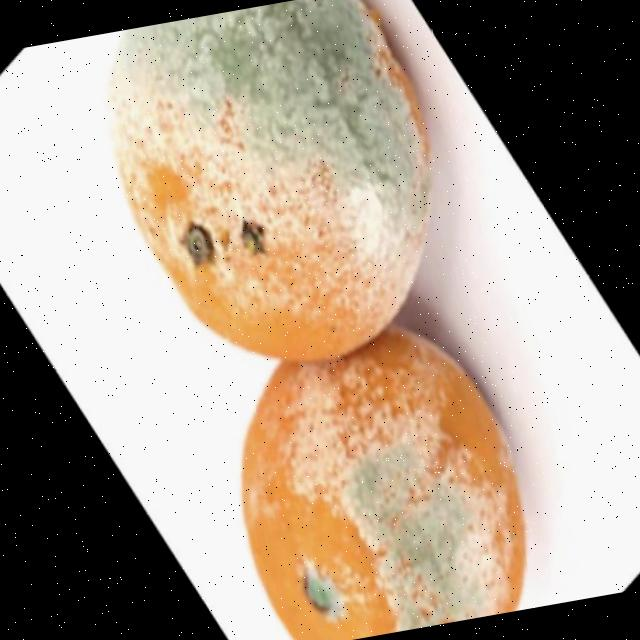rotten orange: (92, 0, 464, 390), (213, 305, 540, 640)
